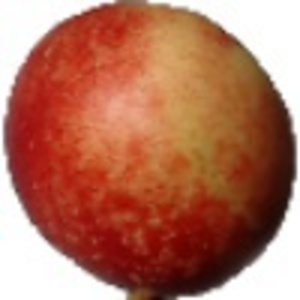nectarina: (3, 1, 299, 300)
